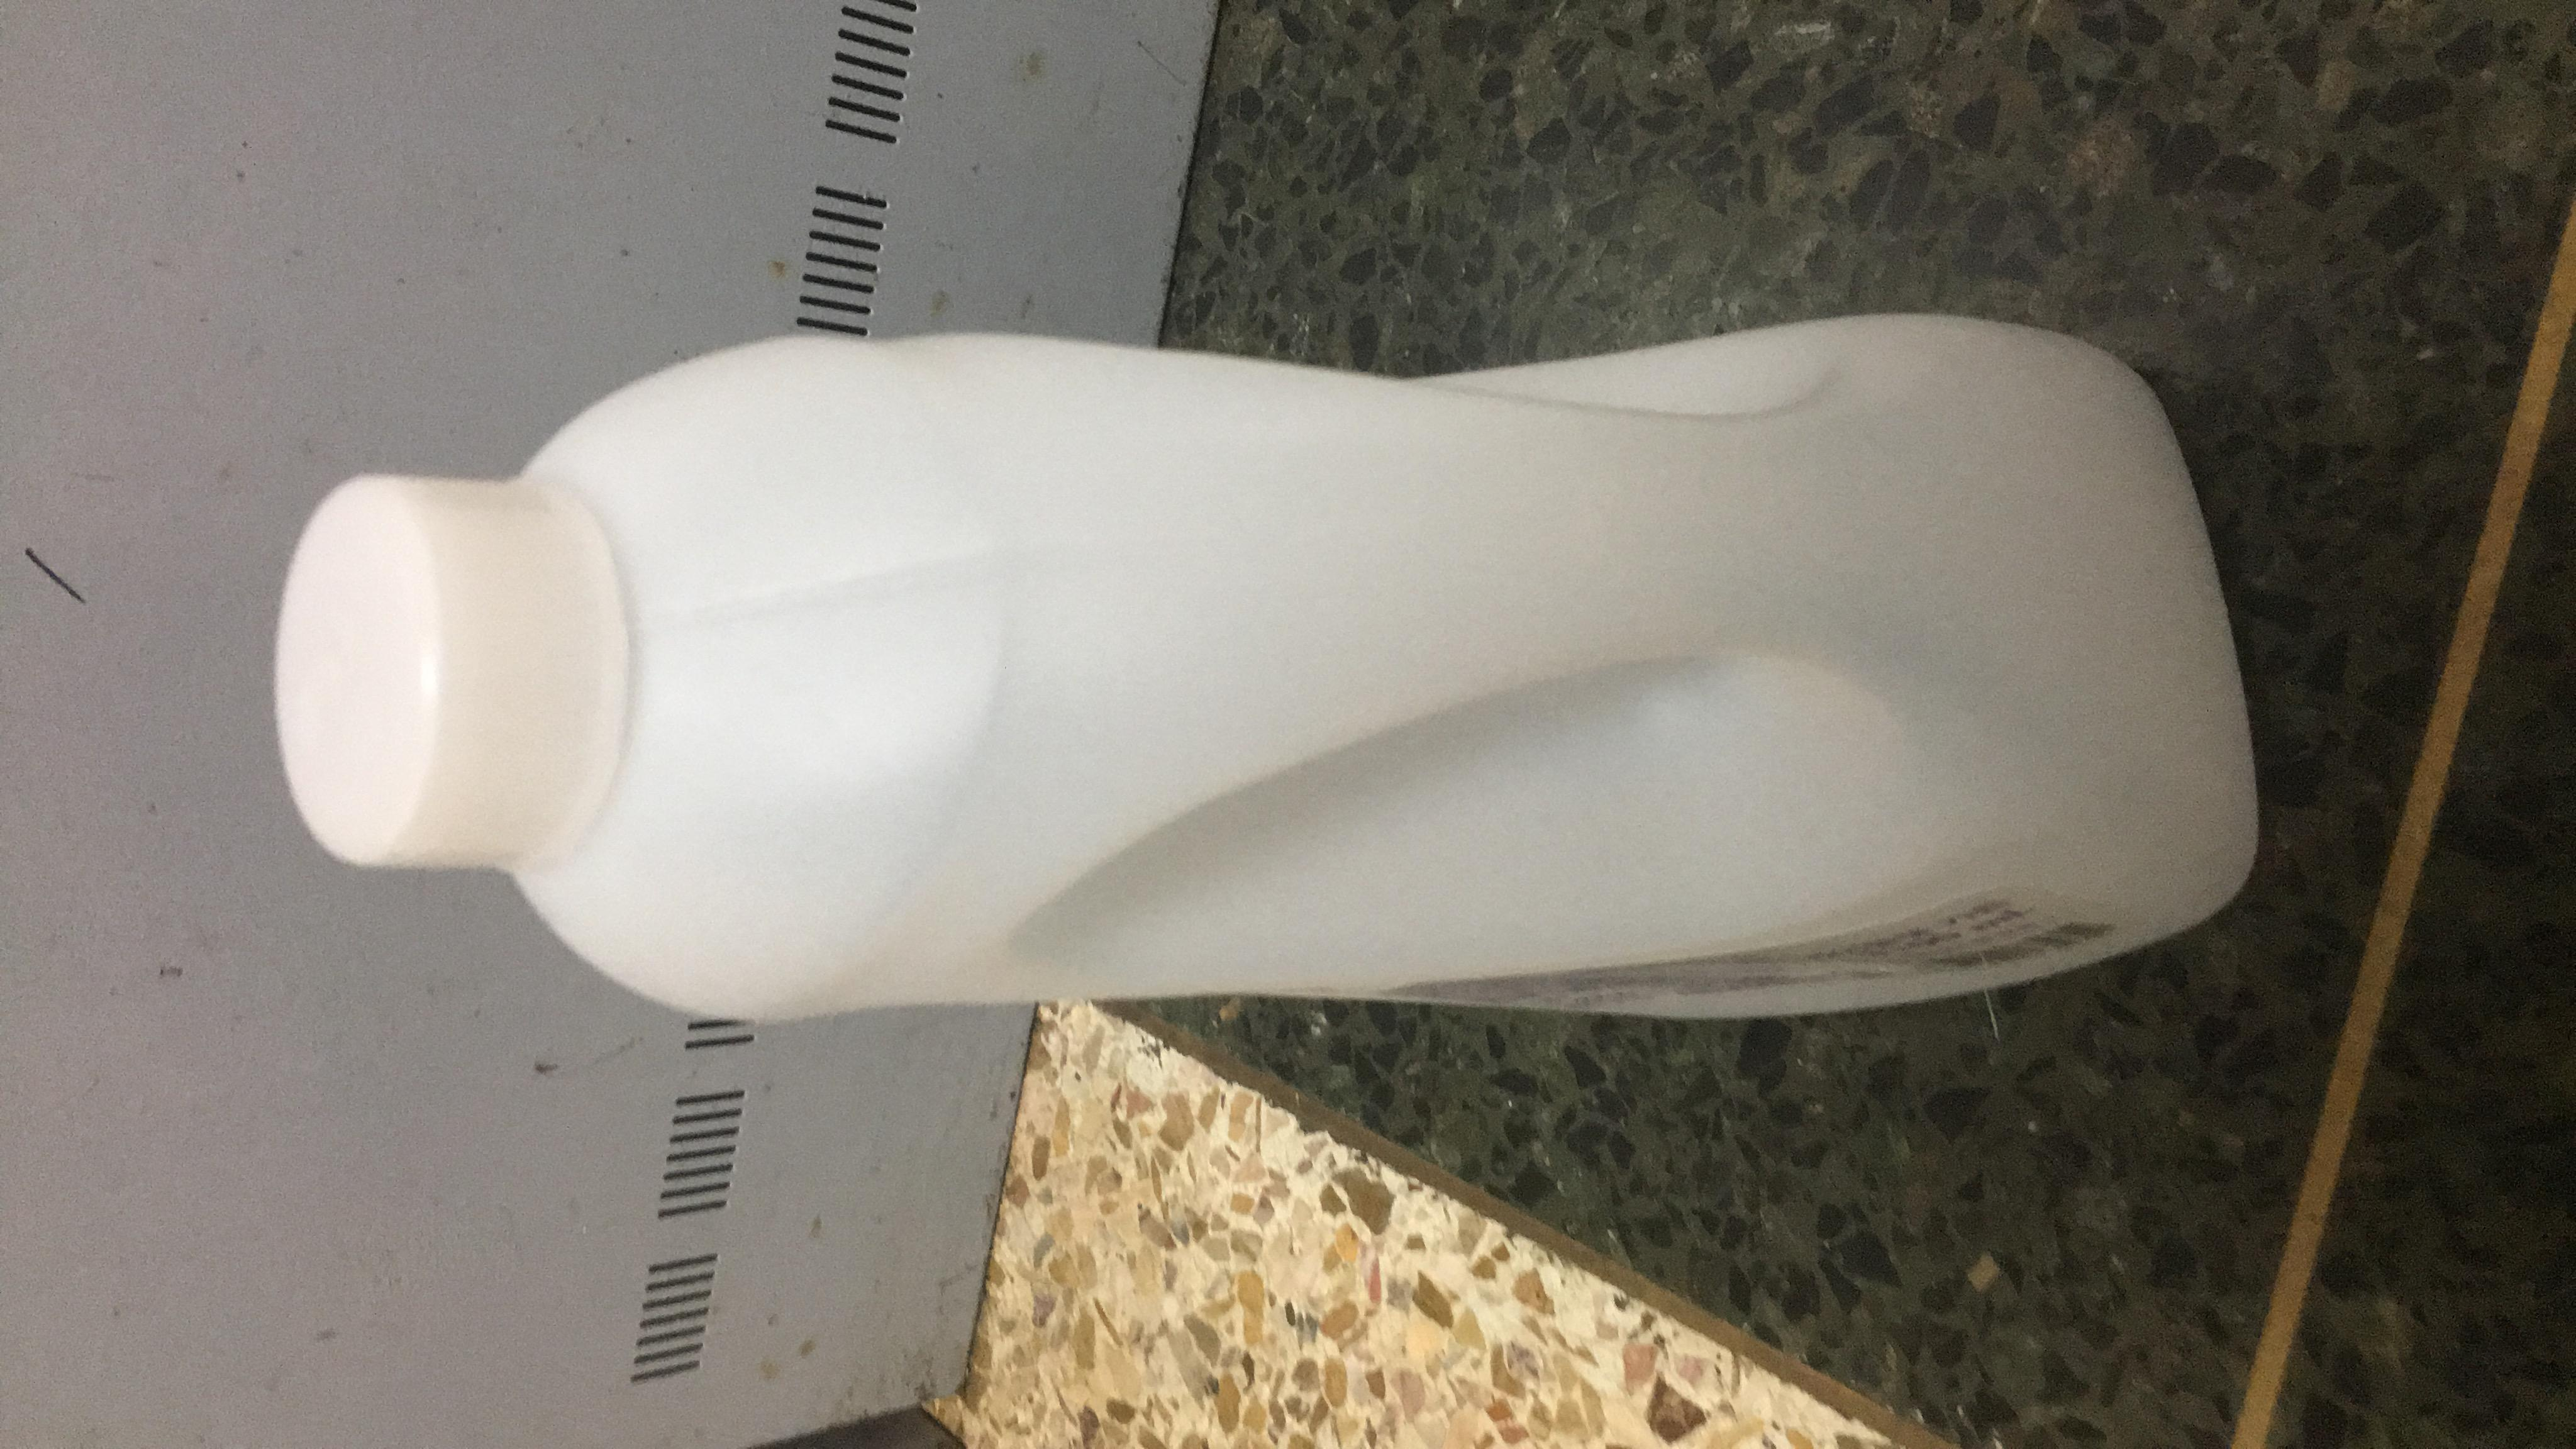bottle: (612, 564, 2148, 596)
